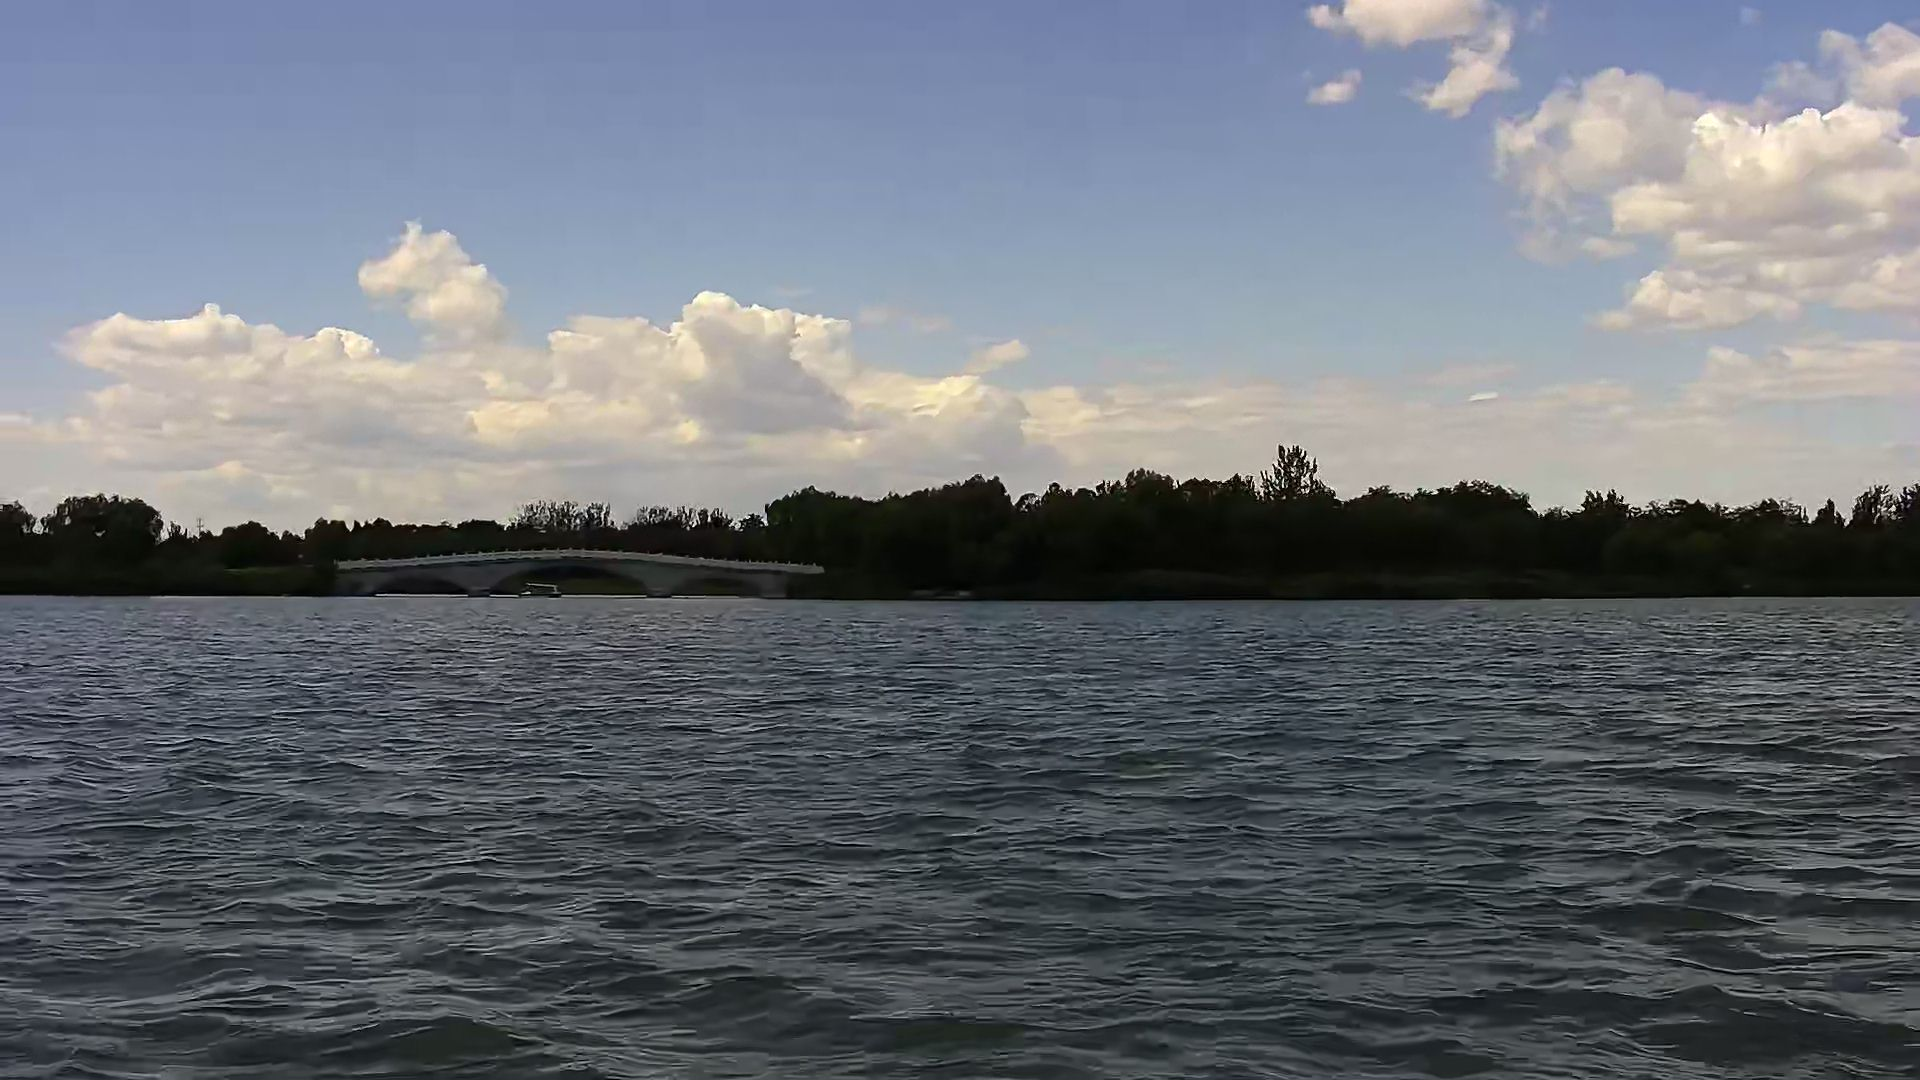boat: (509, 582, 570, 603)
bridge: (324, 545, 824, 603)
